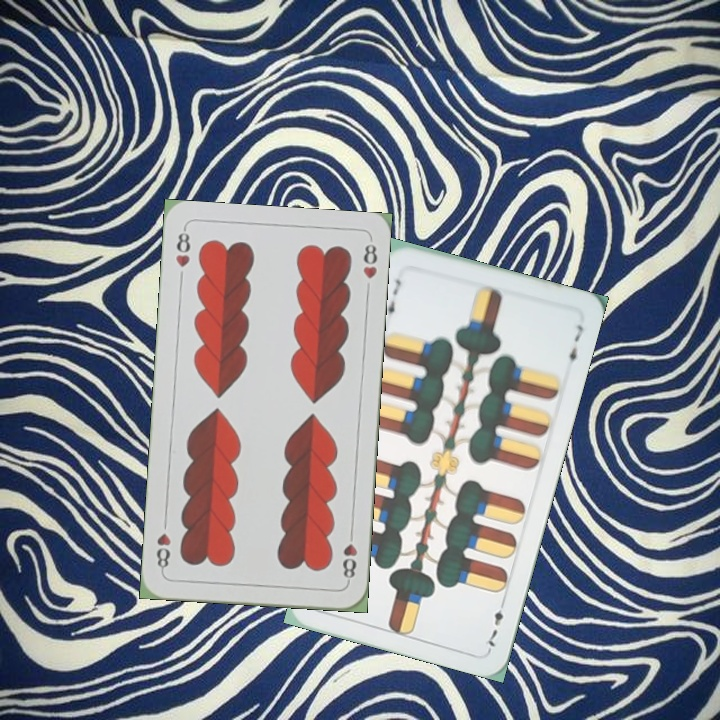E7: (484, 594, 509, 652), (380, 275, 404, 323)
H8: (338, 526, 360, 585), (172, 225, 193, 270)
